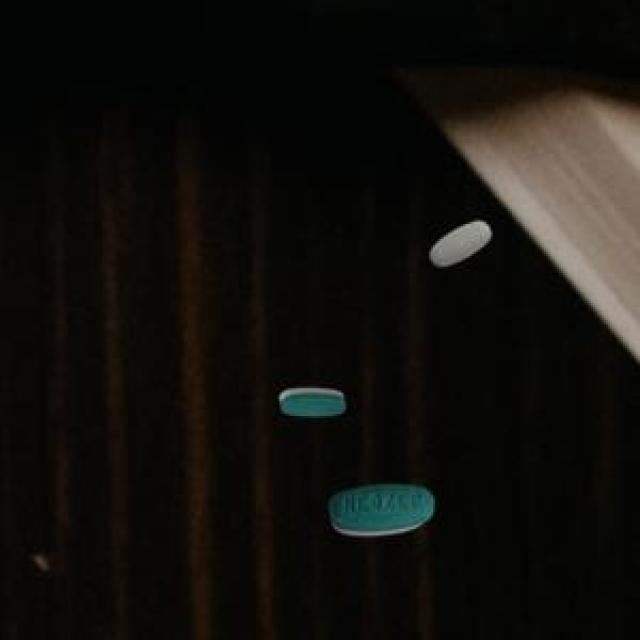Neozep: (314, 473, 444, 550), (419, 215, 496, 281), (269, 371, 355, 427)
